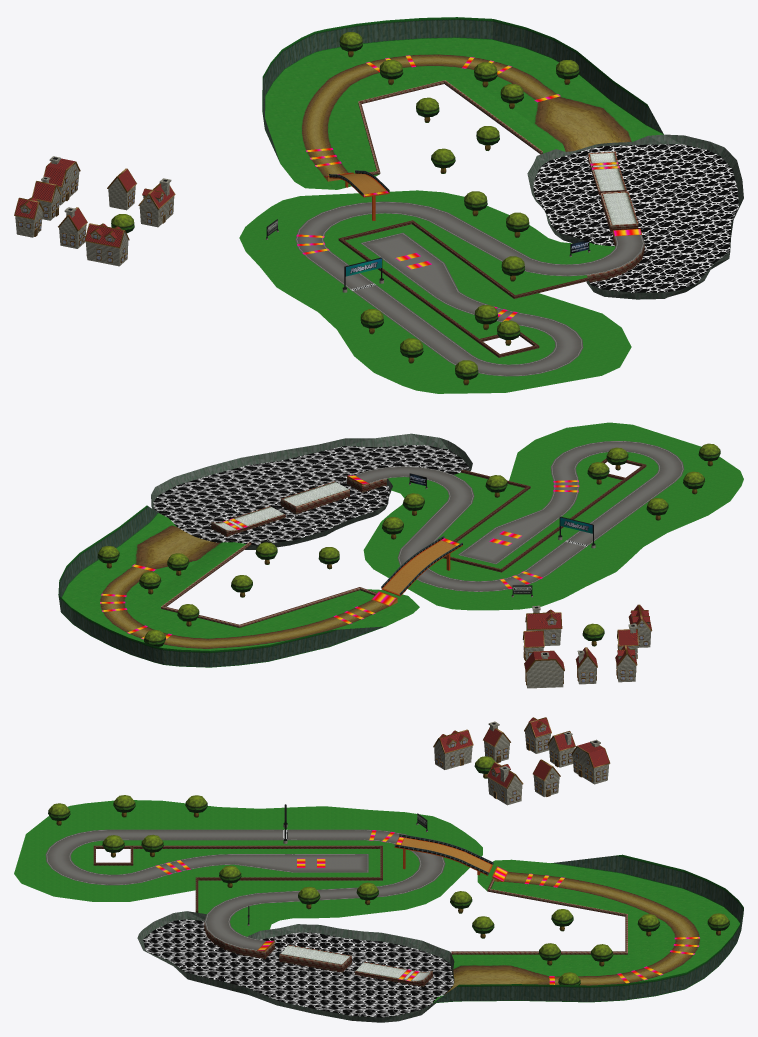
3 views of the same model, one above another, from view 1: azimuth 30°, elevation 25°; view 2: azimuth 150°, elevation 25°; view 3: azimuth 270°, elevation 25° (orthographic). The views are drawn at different scales.
Parts seen in each view (by area): view 1: course-SKP--grassoffroad-Grass.001, course-SKP--wateroot-Water.001, course-SKP--road-Asphalt.001, course-SKP--dirtslipperyroad-Dirt.001, course-SKP--rockwall-RockGrass.001, course-SKP--woodwall_TreeLog.001, course-SKP--stonewall-BrickWall.001, course-SKP--stonewall-MarioHouseBrick.001, course-SKP--rockwall-Rock.001, course-SKP--road-HalfAsphalt.001, course-SKP--stonewall-roof.001, course-SKP--road-Stone.001 (+4 smaller); view 2: course-SKP--grassoffroad-Grass.001, course-SKP--wateroot-Water.001, course-SKP--road-Asphalt.001, course-SKP--rockwall-RockGrass.001, course-SKP--dirtslipperyroad-Dirt.001, course-SKP--woodwall_TreeLog.001, course-SKP--rockwall-Rock.001, course-SKP--stonewall-BrickWall.001, course-SKP--stonewall-MarioHouseBrick.001, course-SKP--road-HalfAsphalt.001, course-SKP--stonewall-roof.001, course-SKP--woodroad-WoodenBridge.001 (+3 smaller); view 3: course-SKP--grassoffroad-Grass.001, course-SKP--wateroot-Water.001, course-SKP--road-Asphalt.001, course-SKP--rockwall-RockGrass.001, course-SKP--dirtslipperyroad-Dirt.001, course-SKP--woodwall_TreeLog.001, course-SKP--stonewall-BrickWall.001, course-SKP--rockwall-Rock.001, course-SKP--stonewall-MarioHouseBrick.001, course-SKP--road-HalfAsphalt.001, course-SKP--stonewall-roof.001, course-SKP--woodwall-MarioHouseBorder.001 (+5 smaller).
Boxes of the visible parts, x1=… form: course-SKP--grassoffroad-Grass.001: x1=239, y1=38, x2=663, y2=393; course-SKP--wateroot-Water.001: x1=533, y1=144, x2=738, y2=292; course-SKP--road-Asphalt.001: x1=295, y1=201, x2=644, y2=376; course-SKP--dirtslipperyroad-Dirt.001: x1=301, y1=54, x2=632, y2=176; course-SKP--rockwall-RockGrass.001: x1=262, y1=17, x2=663, y2=162; course-SKP--woodwall_TreeLog.001: x1=111, y1=32, x2=579, y2=385; course-SKP--stonewall-BrickWall.001: x1=338, y1=80, x2=644, y2=357; course-SKP--stonewall-MarioHouseBrick.001: x1=15, y1=156, x2=174, y2=266; course-SKP--rockwall-Rock.001: x1=527, y1=134, x2=743, y2=299; course-SKP--road-HalfAsphalt.001: x1=361, y1=232, x2=459, y2=297; course-SKP--stonewall-roof.001: x1=15, y1=158, x2=174, y2=246; course-SKP--road-Stone.001: x1=588, y1=151, x2=638, y2=224; course-SKP--grassoffroad-Grass.001: x1=62, y1=422, x2=743, y2=650; course-SKP--wateroot-Water.001: x1=153, y1=445, x2=469, y2=545; course-SKP--road-Asphalt.001: x1=354, y1=441, x2=683, y2=591; course-SKP--rockwall-RockGrass.001: x1=58, y1=505, x2=385, y2=667; course-SKP--dirtslipperyroad-Dirt.001: x1=99, y1=525, x2=389, y2=648; course-SKP--woodwall_TreeLog.001: x1=97, y1=443, x2=720, y2=646; course-SKP--rockwall-Rock.001: x1=151, y1=433, x2=472, y2=549; course-SKP--stonewall-BrickWall.001: x1=161, y1=458, x2=646, y2=627; course-SKP--stonewall-MarioHouseBrick.001: x1=524, y1=605, x2=651, y2=688; course-SKP--road-HalfAsphalt.001: x1=458, y1=509, x2=563, y2=564; course-SKP--stonewall-roof.001: x1=524, y1=605, x2=651, y2=670; course-SKP--woodroad-WoodenBridge.001: x1=347, y1=475, x2=462, y2=606; course-SKP--grassoffroad-Grass.001: x1=14, y1=800, x2=739, y2=1002; course-SKP--wateroot-Water.001: x1=142, y1=919, x2=453, y2=1017; course-SKP--road-Asphalt.001: x1=45, y1=829, x2=445, y2=950; course-SKP--rockwall-RockGrass.001: x1=433, y1=854, x2=743, y2=1003; course-SKP--dirtslipperyroad-Dirt.001: x1=444, y1=872, x2=700, y2=994; course-SKP--woodwall_TreeLog.001: x1=48, y1=756, x2=729, y2=985; course-SKP--stonewall-BrickWall.001: x1=93, y1=845, x2=627, y2=986; course-SKP--rockwall-Rock.001: x1=137, y1=911, x2=454, y2=1022; course-SKP--stonewall-MarioHouseBrick.001: x1=434, y1=721, x2=609, y2=805; course-SKP--road-HalfAsphalt.001: x1=234, y1=854, x2=368, y2=872; course-SKP--stonewall-roof.001: x1=439, y1=718, x2=609, y2=787; course-SKP--woodwall-MarioHouseBorder.001: x1=433, y1=717, x2=610, y2=802.
Size of what is drawn, in the model's own units: 84519 by 6317 by 87466.
27 materials, 26 textured.
